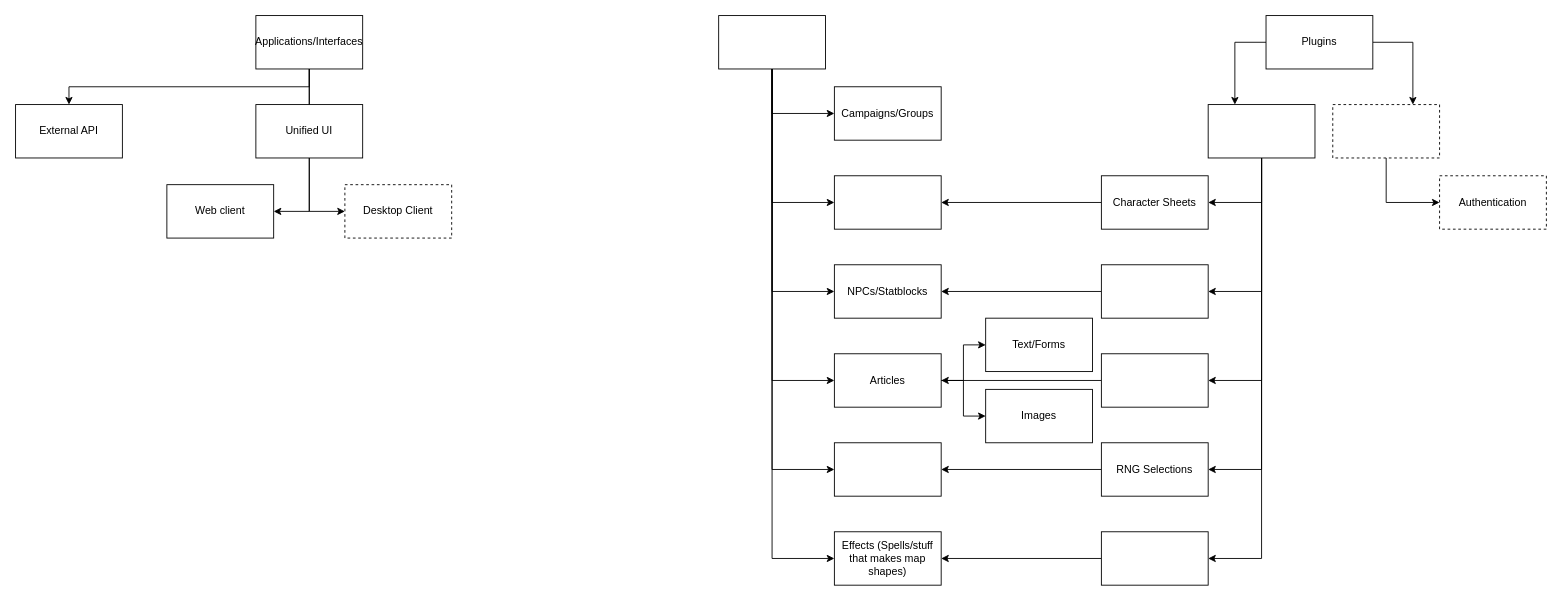
Some shapes in this 1562 by 601 pixel diagram are drawn without their labels. Here are the shapes that lost their labels. From the top down, the box of each, then its label:
(718, 15, 825, 69): RPG Generalization
(1207, 104, 1315, 158): Project Plugins
(1332, 104, 1440, 158): Server Plugins
(833, 175, 941, 229): Characters
(1100, 264, 1208, 318): Stat Templates
(1100, 353, 1208, 407): Article Templates
(833, 442, 941, 496): RNG Types
(1100, 531, 1208, 585): Effect Templates
